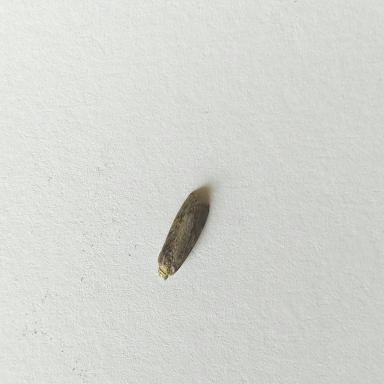abw: (158, 190, 210, 280)
